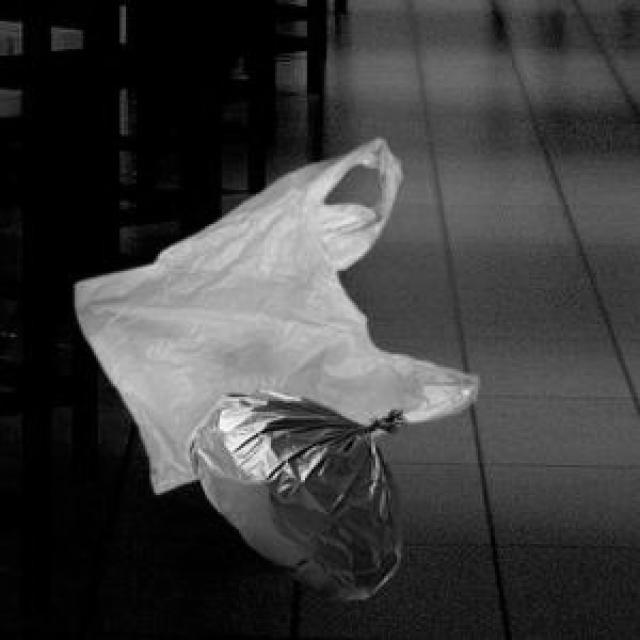miscellaneous trash: (181, 386, 403, 597)
